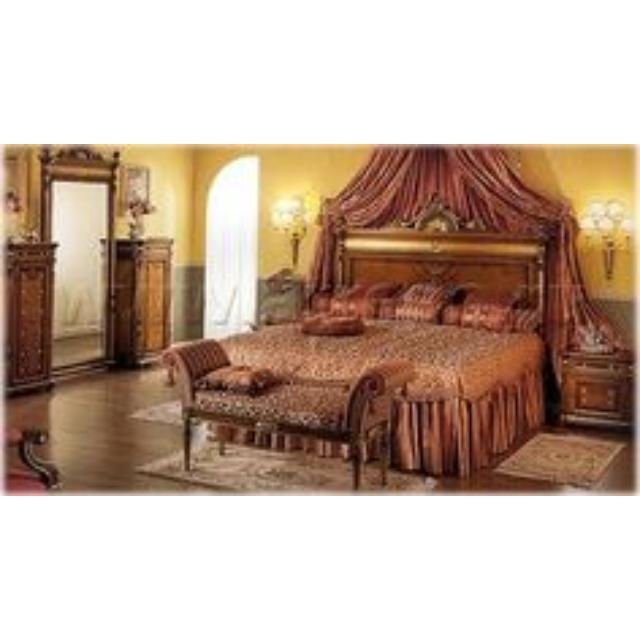bed: (224, 148, 618, 476)
curtain: (204, 155, 259, 338)
dresser: (562, 353, 634, 426)
lamp: (580, 199, 631, 279), (270, 196, 308, 267)
rug: (138, 423, 350, 492), (491, 433, 625, 488), (131, 402, 181, 425), (390, 472, 439, 491)
